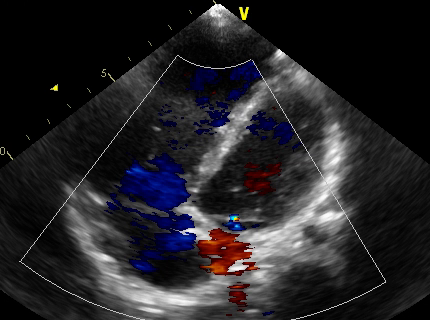TR: (127, 183, 199, 251)
